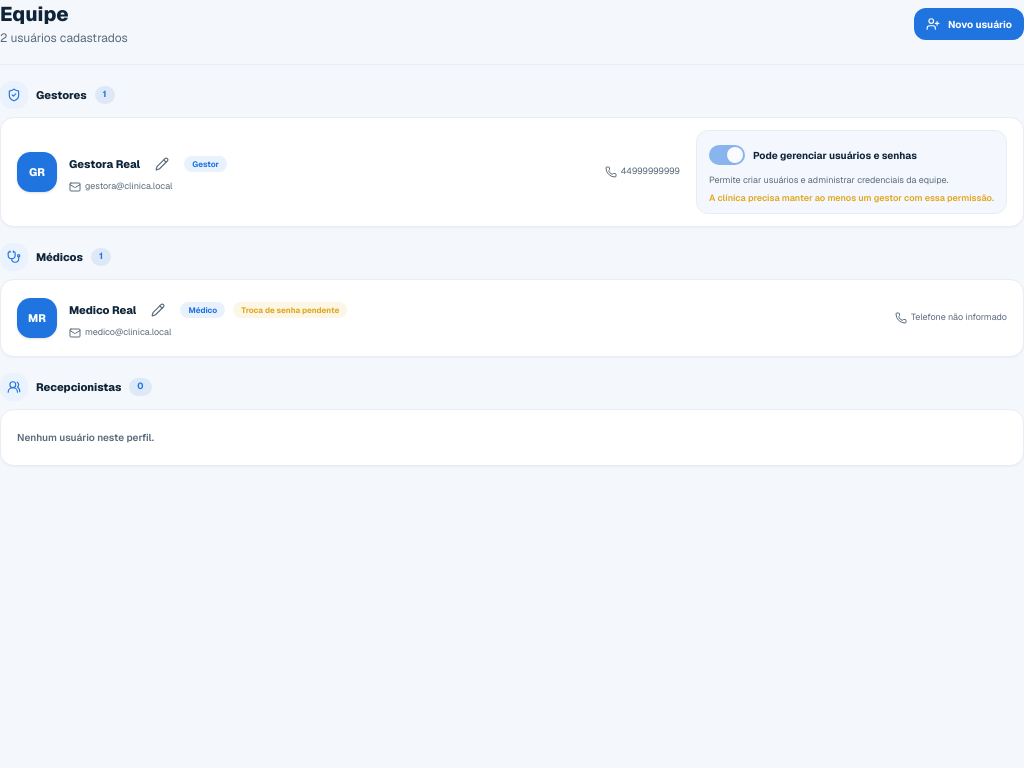
Test: EquipeClient › should_cancel_name_edit_with_escape_without_request
Click the button named "Alterar nome de Medico Real" at (158, 310), box [144,296,172,324]
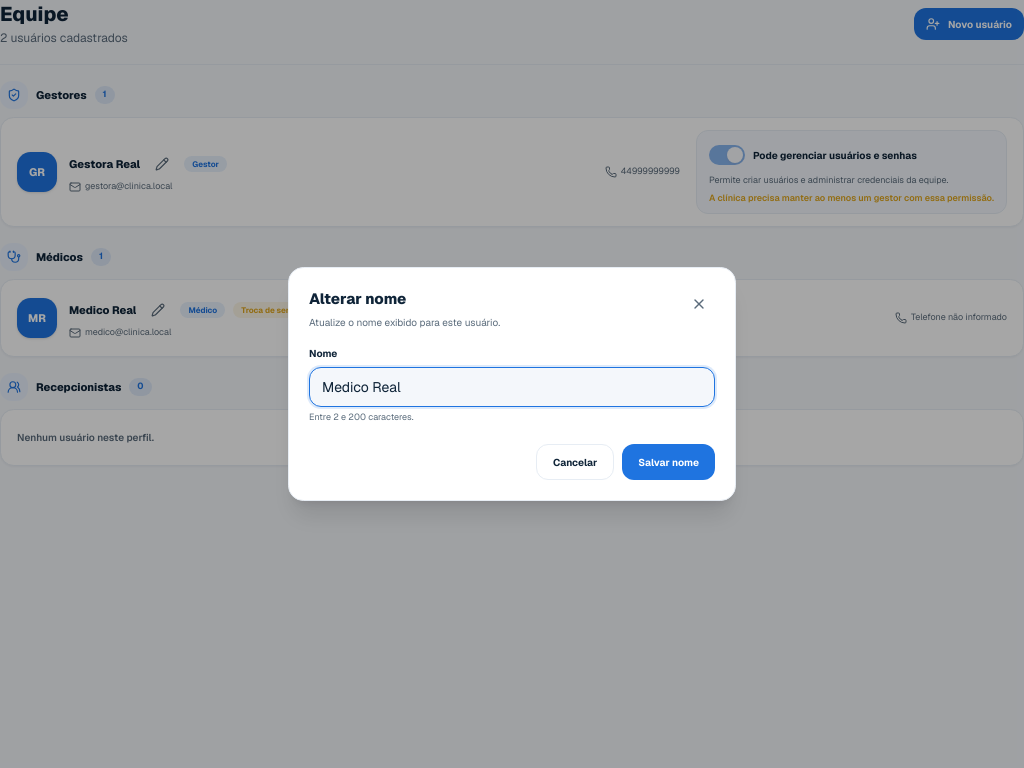
Press Escape
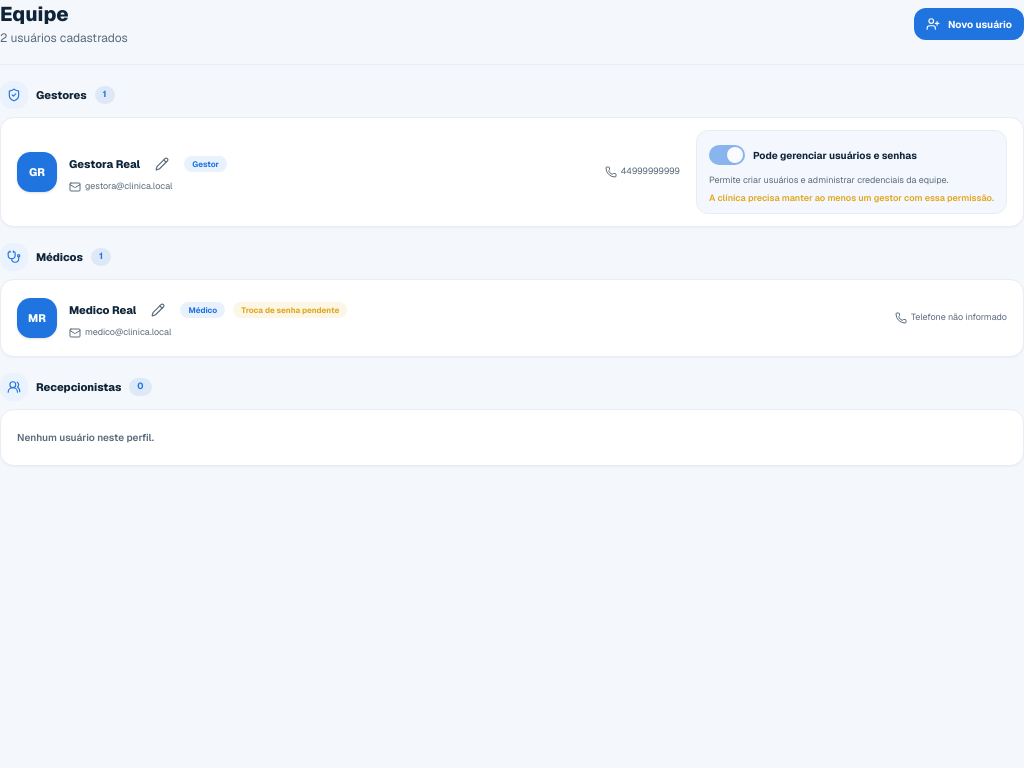
Check: the heading "Alterar nome" is gone
